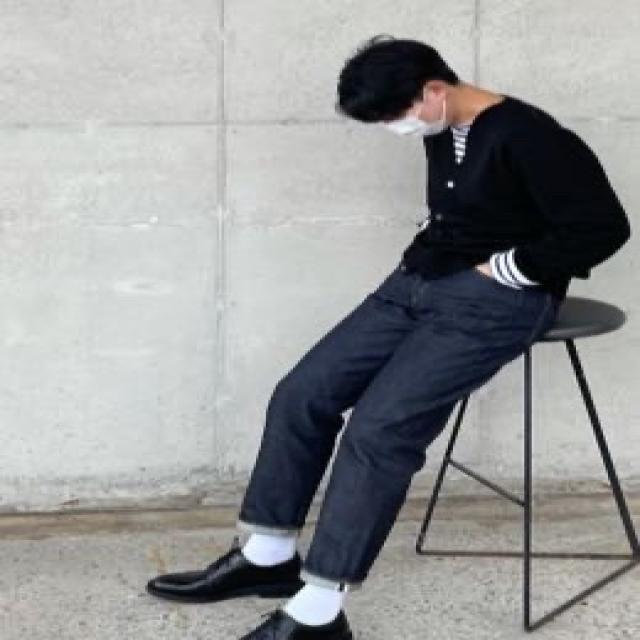cardigan: (405, 95, 632, 290)
denimpants: (238, 237, 565, 594)
